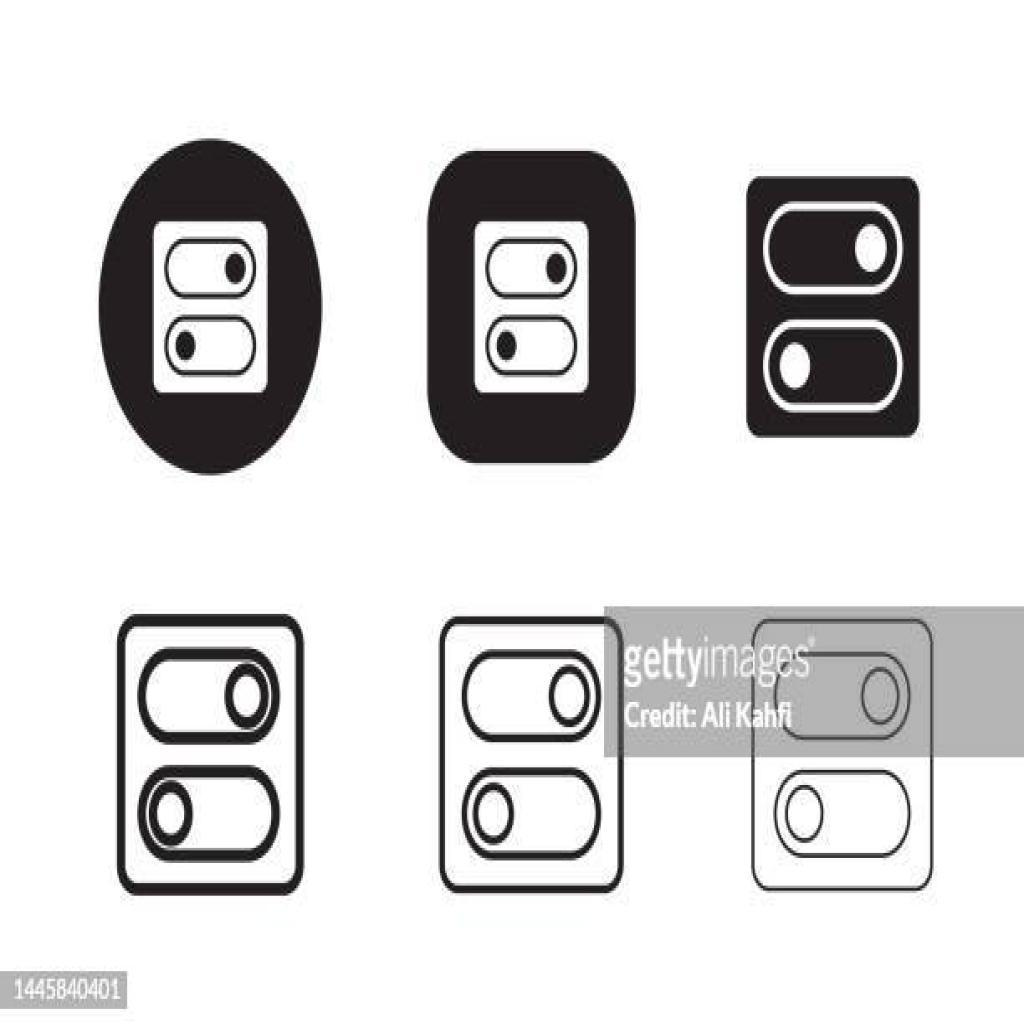switch: (137, 765, 283, 865), (139, 647, 282, 746), (462, 766, 603, 862), (462, 648, 601, 743), (774, 766, 913, 860), (767, 200, 904, 294), (764, 320, 906, 410), (162, 314, 260, 379), (485, 237, 580, 300), (487, 315, 579, 379), (166, 238, 258, 301)
